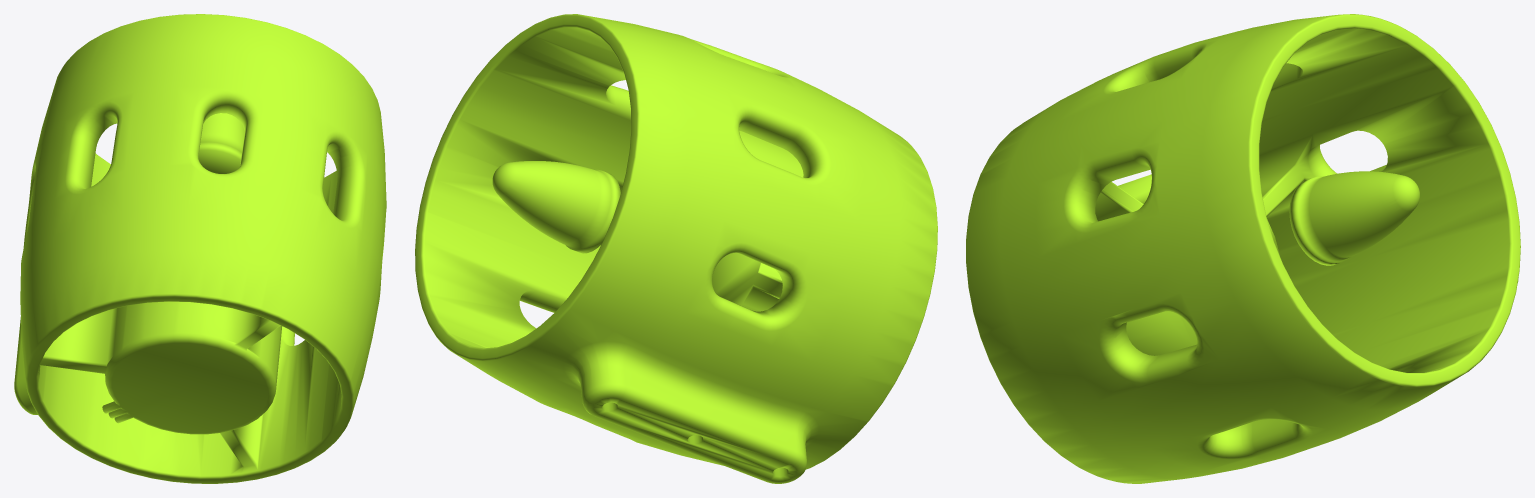
3 renders of one model, left to right at view 1: azimuth 30°, elevation 25°; view 2: azimuth 150°, elevation 25°; view 3: azimuth 270°, elevation 25°, orthographic. The views are drawn at different scales.
Visible parts, largest first — view 1: node0; view 2: node0; view 3: node0.
Boxes of the visible parts, <box> form: node0: <box>14,14,386,483</box>; node0: <box>415,14,937,483</box>; node0: <box>966,14,1520,483</box>.
Size of the model in its own units: 0.0929 by 0.0929 by 0.0967.
